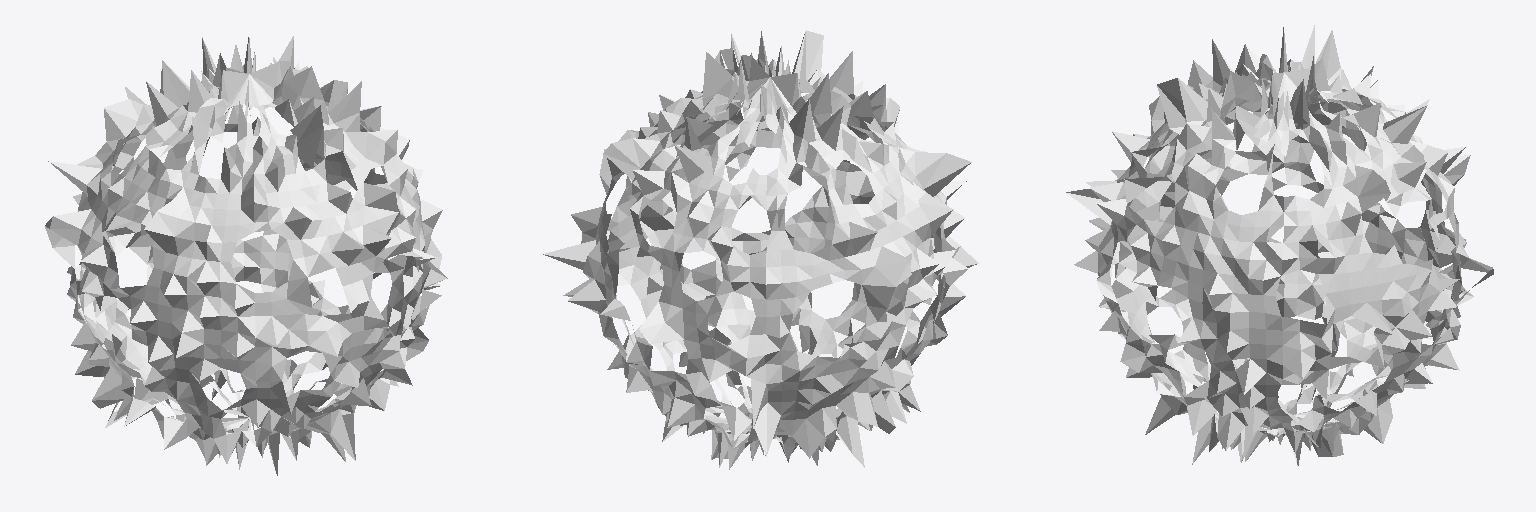
File: UnstableExplosion2.obj
3 views of the same model, side by side, from view 1: azimuth 30°, elevation 25°; view 2: azimuth 150°, elevation 25°; view 3: azimuth 270°, elevation 25° (orthographic).
Visible parts, largest first — view 1: Inwardshockwave1; view 2: Inwardshockwave1; view 3: Inwardshockwave1.
Boxes of the visible parts, <box> form: Inwardshockwave1: <box>45,36,447,475</box>; Inwardshockwave1: <box>543,30,978,469</box>; Inwardshockwave1: <box>1066,25,1493,466</box>.
Size of the model in its own units: 15.96 by 18.1 by 16.93.